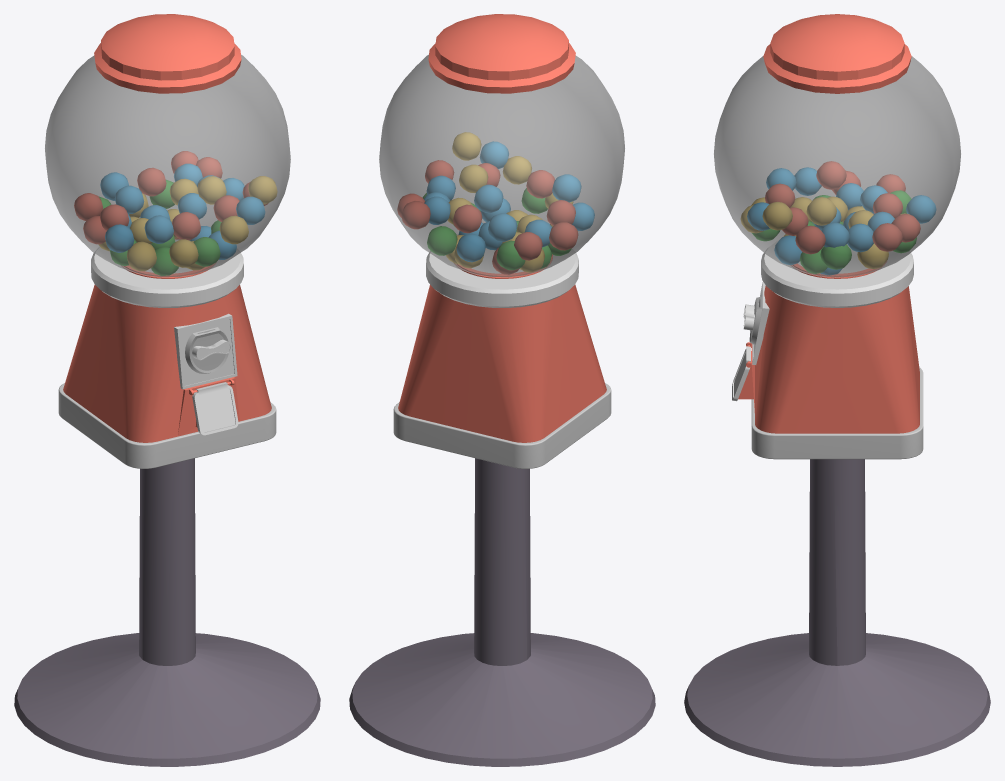
Rendered from Candy_Machine_01.fbx.
3 views of the same model, side by side, from view 1: azimuth 30°, elevation 25°; view 2: azimuth 150°, elevation 25°; view 3: azimuth 270°, elevation 25° (orthographic).
Visible parts, largest first — view 1: polySurface77, pSphere13, pSphere47, pSphere15, pSphere10, pSphere8, pSphere52, pSphere41, pSphere53, pSphere61, pSphere16, pSphere7 (+5 smaller); view 2: polySurface77, pSphere6, pSphere11, pSphere57, pSphere44, pSphere16, pSphere8, pSphere50, pSphere55, pSphere10, pSphere52, pSphere41 (+6 smaller); view 3: polySurface77, pSphere9, pSphere42, pSphere43, pSphere11, pSphere61, pSphere50, pSphere39, pSphere5, pSphere51, pSphere15, pSphere54 (+2 smaller).
Part boxes in pixels (x1,y1,x2,y2): polySurface77: (14,14,320,766); pSphere13: (127,241,156,271); pSphere47: (169,239,198,267); pSphere15: (105,224,134,252); pSphere10: (219,215,248,244); pSphere8: (137,168,166,196); pSphere52: (144,215,173,243); pSphere41: (172,212,200,240); pSphere53: (236,196,265,224); pSphere61: (197,176,226,204); pSphere16: (115,185,143,213); pSphere7: (74,193,103,220); polySurface77: (349,14,655,766); pSphere6: (427,226,457,255); pSphere11: (452,132,481,160); pSphere57: (549,222,578,250); pSphere44: (401,201,430,229); pSphere16: (488,213,517,241); pSphere8: (453,204,482,233); pSphere50: (456,233,485,262); pSphere55: (474,184,503,213); pSphere10: (503,156,531,184); pSphere52: (552,174,581,202); pSphere41: (526,170,554,198); polySurface77: (684,14,990,766); pSphere9: (872,223,902,251); pSphere42: (816,161,846,189); pSphere43: (795,225,825,254); pSphere11: (762,202,792,230); pSphere61: (806,197,836,225); pSphere50: (906,195,936,223); pSphere39: (820,244,851,269); pSphere5: (774,235,801,264); pSphere51: (847,223,873,252); pSphere15: (794,167,821,195); pSphere54: (821,222,849,247).
Bounding box in the file's own units: 33.92 × 82.21 × 33.92.
Materials: 2 (1 with a texture image).
